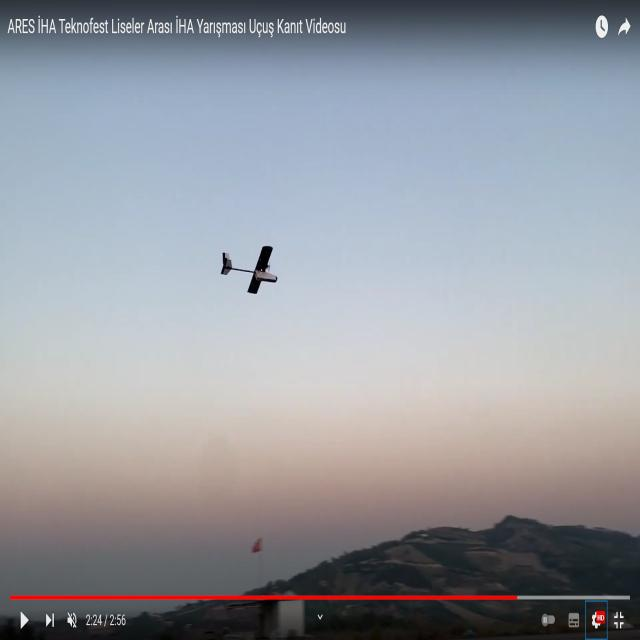iha: (222, 248, 278, 296)
